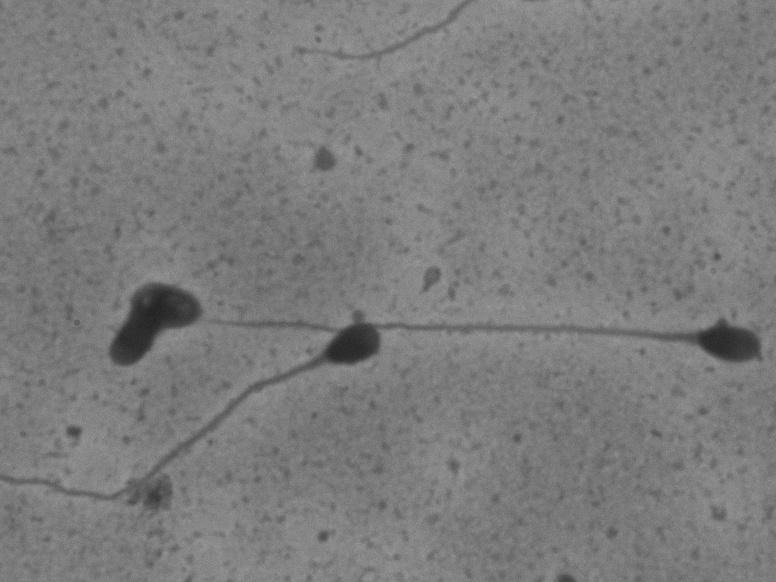Normal: (8, 317, 390, 508), (189, 305, 766, 370)
